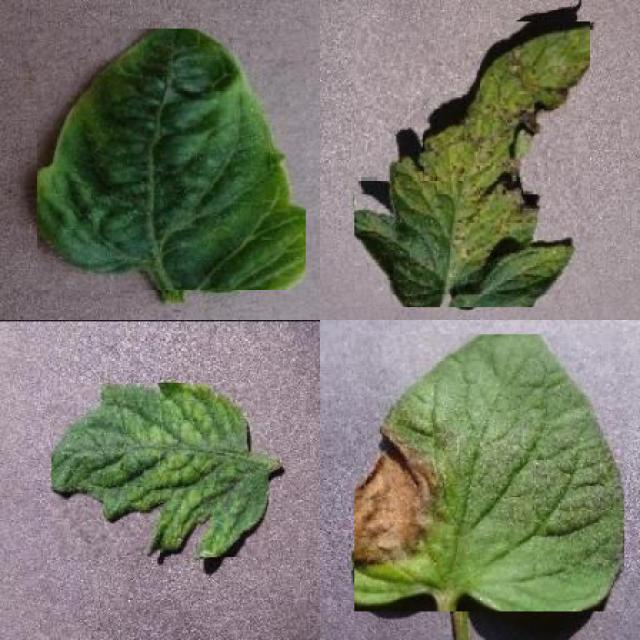Late Blight: (354, 334, 624, 612)
Mosaic Virus: (52, 382, 268, 558)
Septoria: (354, 22, 590, 307)
Yellow Leaf Curl Virus: (37, 29, 306, 290)
